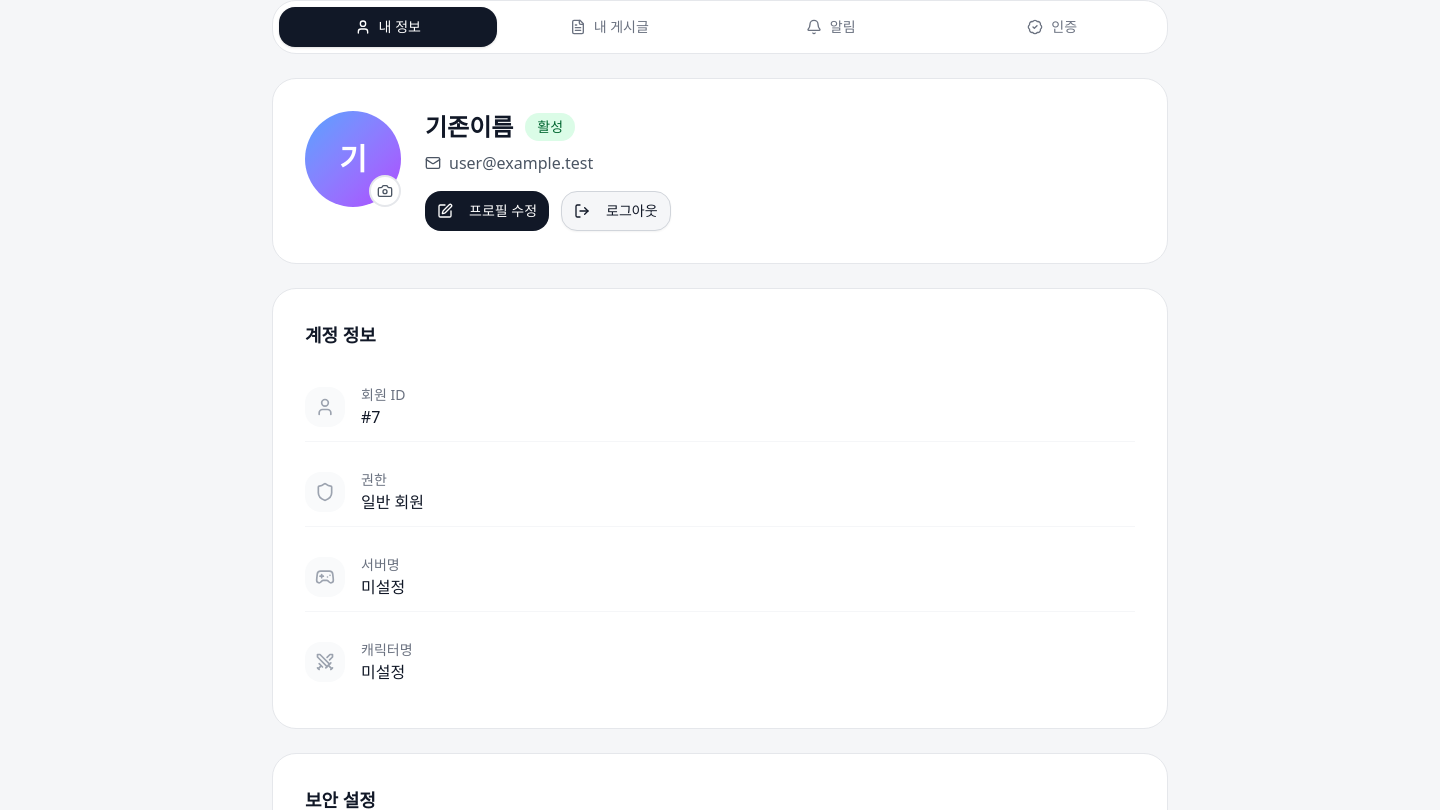
Scenario: 마이페이지 닉네임 변경 경계 › 중복 409 뒤에는 다시 뽑기 전 재제출을 차단한다
Click the button "프로필 수정" at (487,211), box [425, 191, 549, 231]
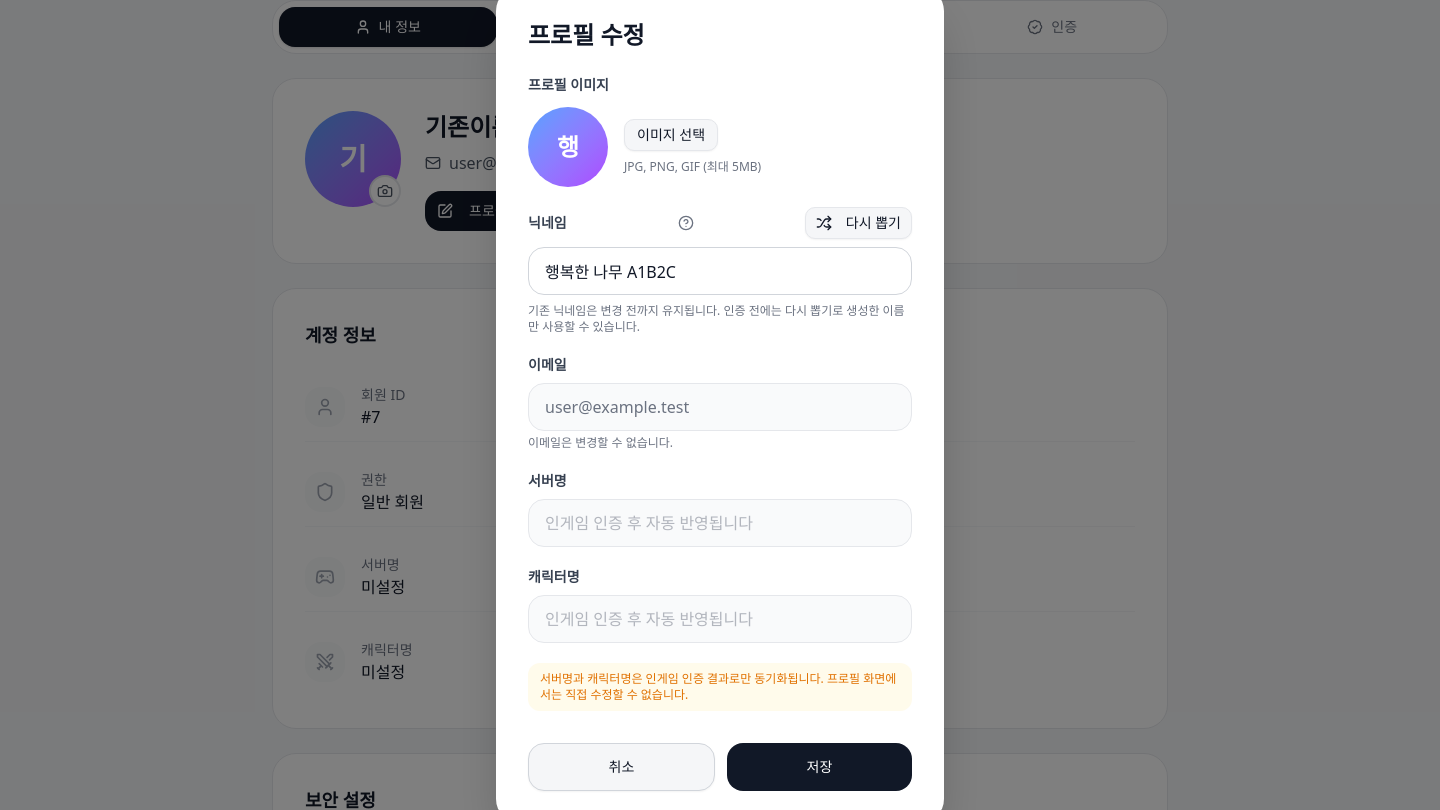
Click the button "저장" at (820,767), box [727, 743, 912, 791]
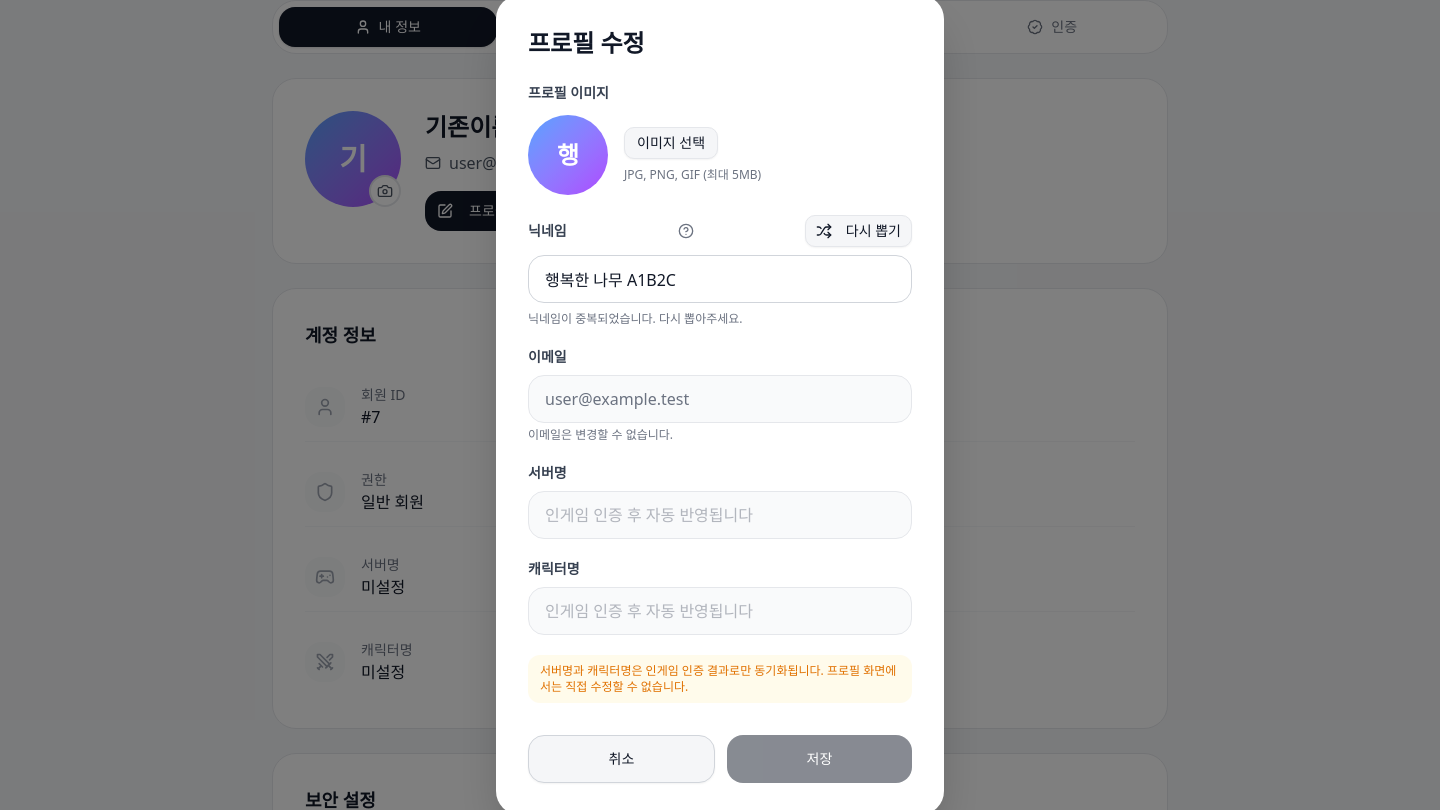
expect the button "저장" is disabled: met, box [727, 735, 912, 783]
expect the message shows "다시 뽑아주세요": met, box [528, 310, 742, 327]
